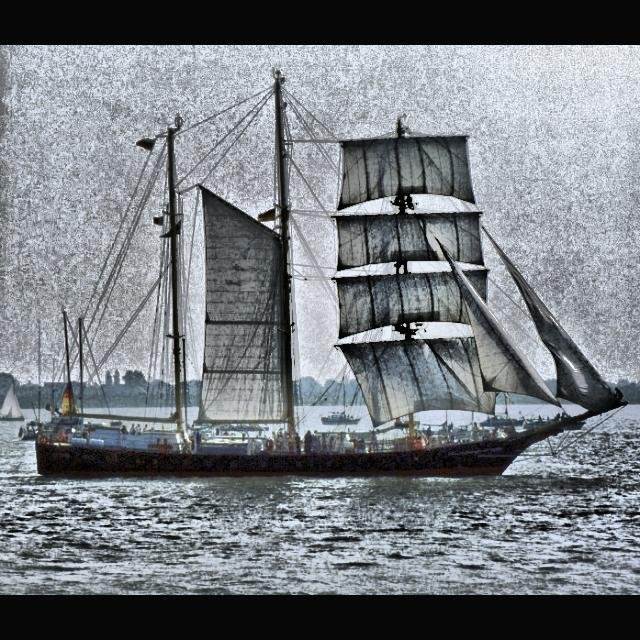sailing_vessel: (35, 70, 631, 478)
